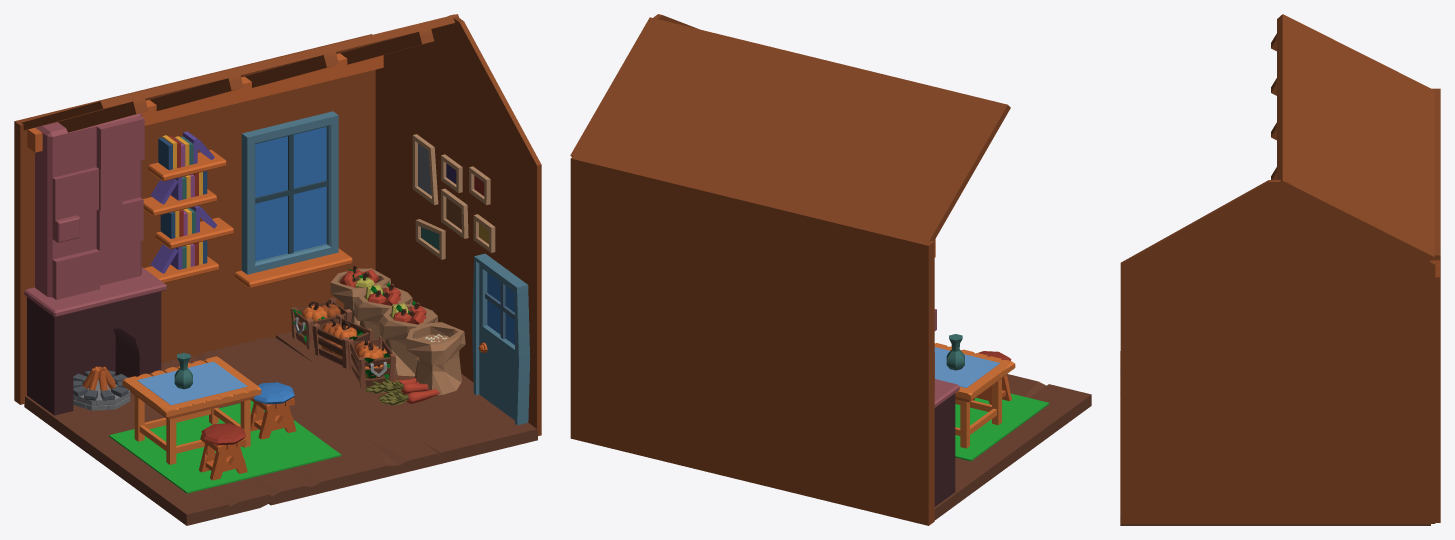
Rendered from FarmInside.fbx.
3 renders of one model, left to right at view 1: azimuth 30°, elevation 25°; view 2: azimuth 150°, elevation 25°; view 3: azimuth 270°, elevation 25°, orthographic. The views are drawn at different scales.
Visible parts, largest first — view 1: pCube5, pCube13, pCube37, pCube47, pCube69, pCube16, pCube36, pCube35, pCube71, polySurface190, polySurface189, pSphere2 (+8 smaller); view 2: pCube5, pCube13, pCube35, pCube37, pCube36; view 3: pCube5, pCube13.
Boxes of the visible parts, <box> form: pCube5: <box>14,14,541,435</box>; pCube13: <box>24,331,537,525</box>; pCube37: <box>24,113,166,415</box>; pCube47: <box>234,111,352,288</box>; pCube69: <box>143,131,233,283</box>; pCube16: <box>472,253,530,425</box>; pCube36: <box>109,400,341,493</box>; pCube35: <box>122,356,261,464</box>; pCube71: <box>412,134,495,259</box>; polySurface190: <box>406,322,465,395</box>; polySurface189: <box>379,301,437,376</box>; pSphere2: <box>199,423,247,480</box>; pCube5: <box>570,14,1010,525</box>; pCube13: <box>934,374,1091,520</box>; pCube35: <box>934,343,1015,448</box>; pCube37: <box>934,309,959,506</box>; pCube36: <box>955,393,1049,461</box>; pCube5: <box>1120,14,1440,523</box>; pCube13: <box>1120,351,1430,525</box>.
Bounding box in the file's own units: 554 × 532 × 445.
